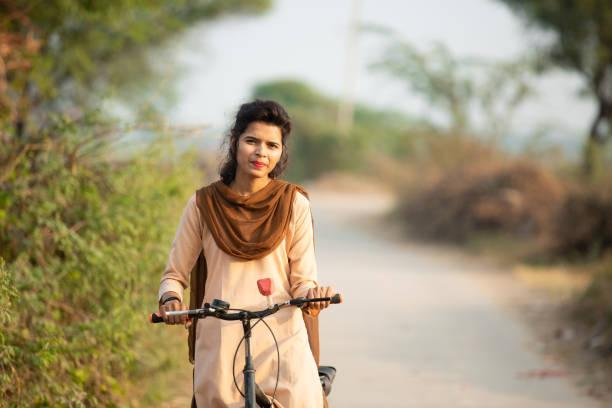Human: (154, 90, 334, 408)
